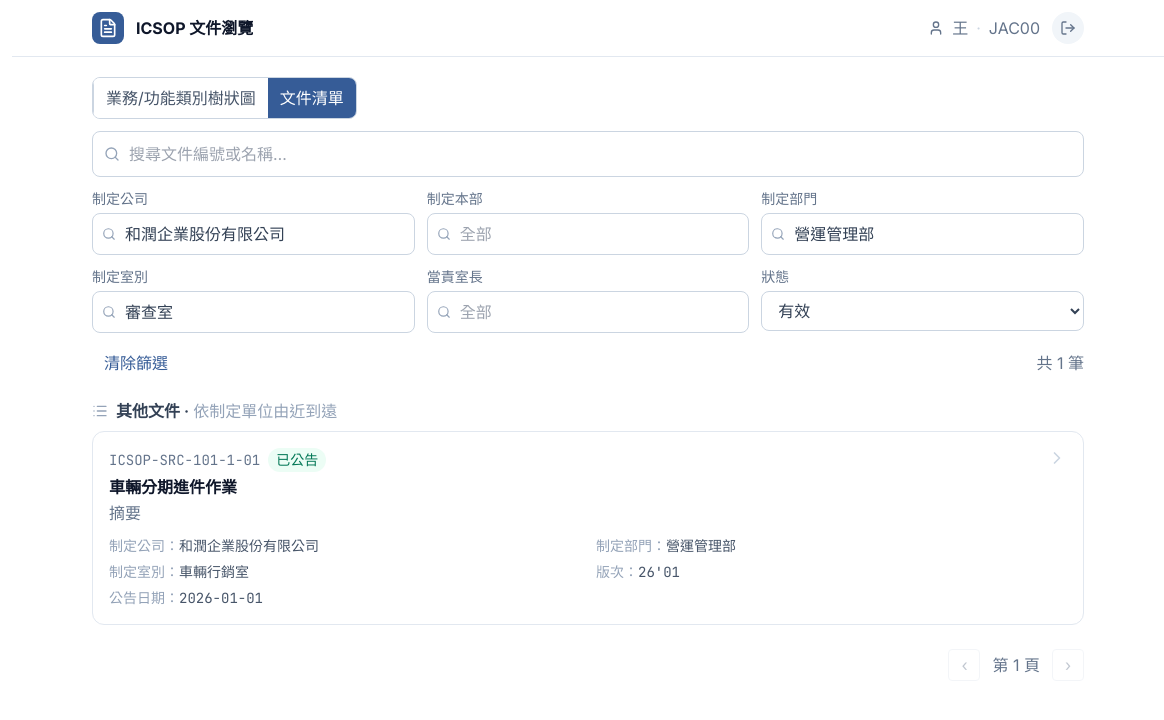
AC-OC3：改上級清下級（同一次寫入網址） › 改部門 ⇒ 只清 section，co 不動
Expected: the heading "車輛分期進件作業" is shown, [109,477,237,497]
Click the dropdown labelled "制定部門" at (923, 234), box [761,213,1084,255]
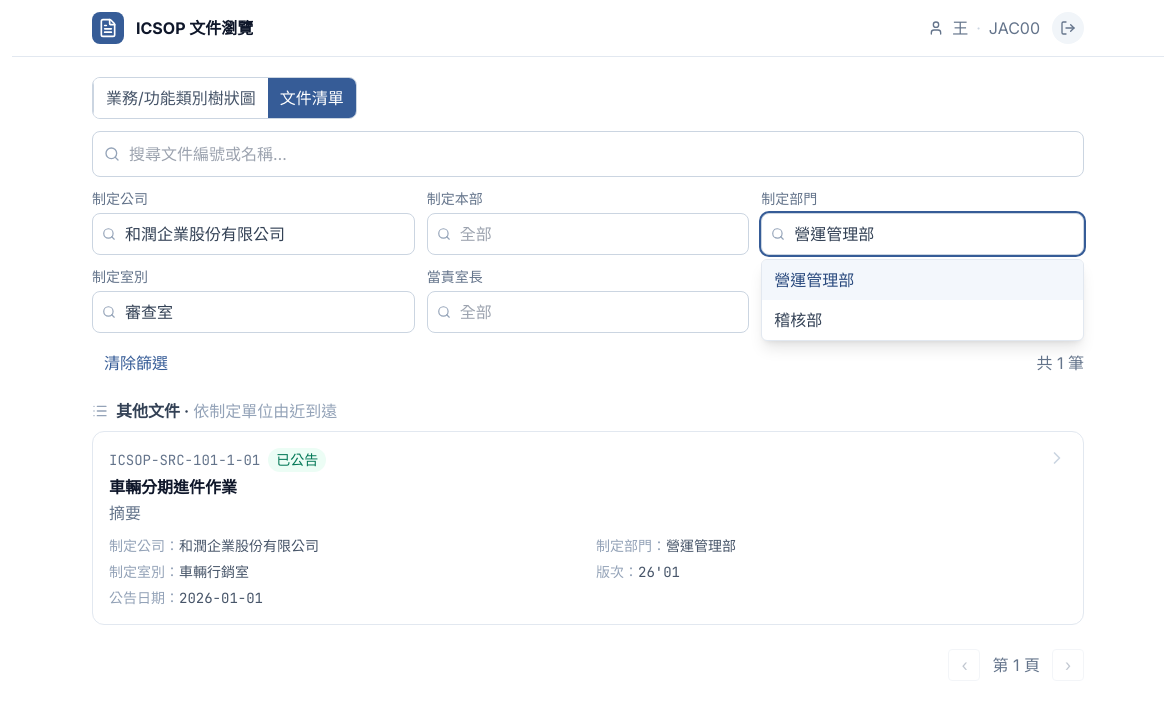
Click the option "稽核部" at (798, 320), box [762,300,1083,340]
(page scrolled)
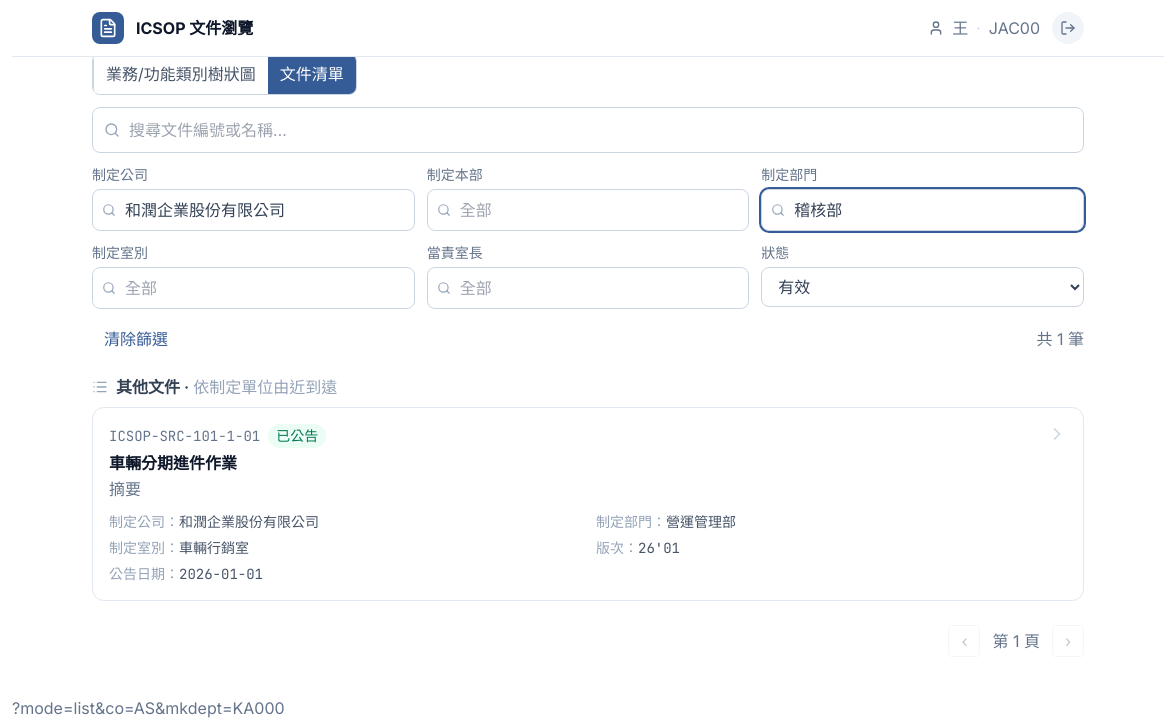
Expected: the text with test id "loc-search" shows "co=AS", [12,698,285,718]
Expected: the text with test id "loc-search" shows "mkdept=KA000", [12,698,285,718]
